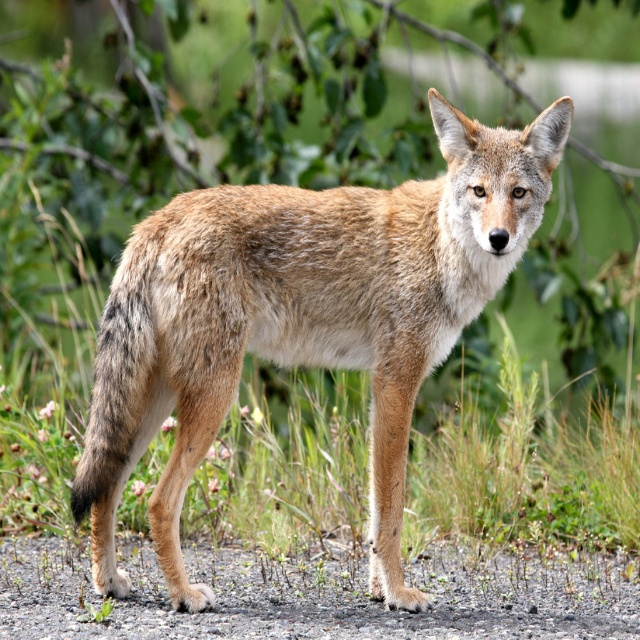Fox: (68, 86, 575, 617)
